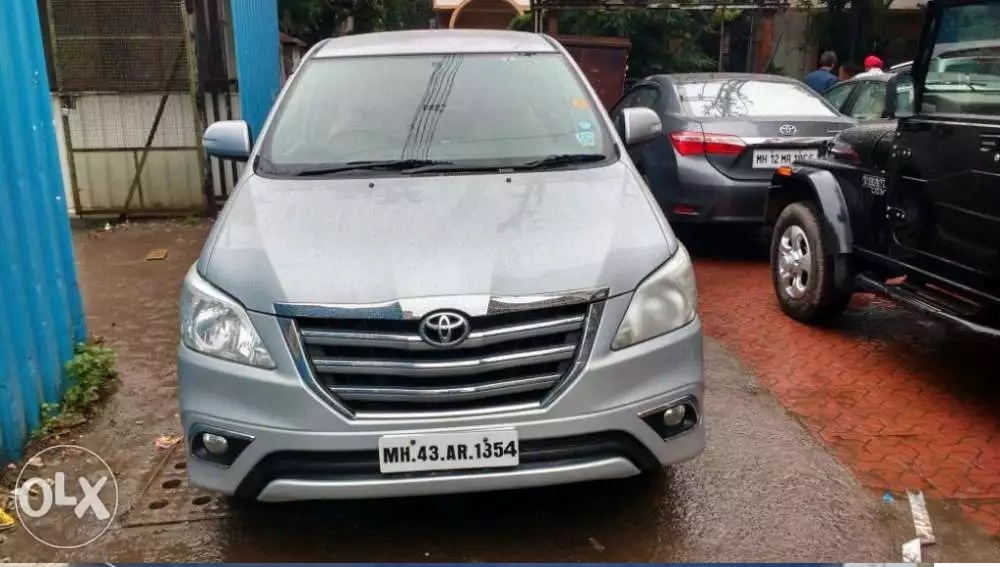licenseplate: (379, 424, 530, 473)
